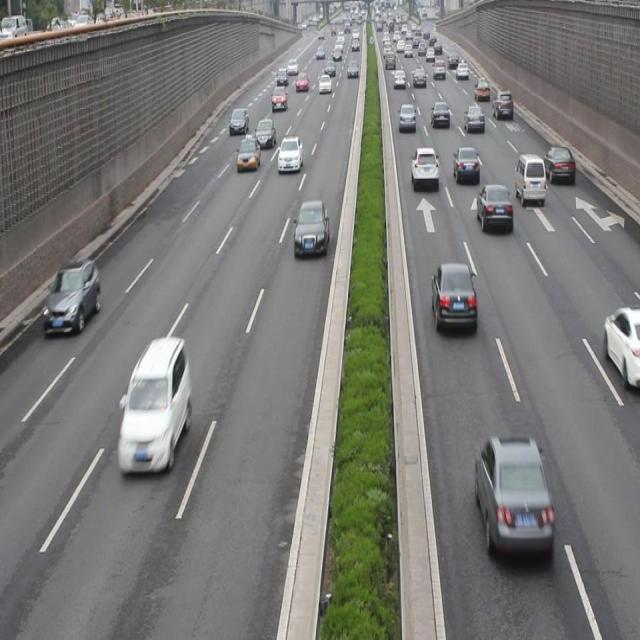car: (117, 337, 190, 474), (473, 434, 551, 559), (43, 258, 101, 336), (430, 261, 476, 334), (603, 307, 640, 388), (292, 199, 328, 258), (475, 182, 512, 233), (409, 144, 438, 190), (543, 144, 575, 184), (452, 145, 479, 186), (277, 135, 302, 174), (236, 135, 259, 170), (464, 103, 486, 132), (255, 116, 275, 147), (228, 106, 248, 135), (398, 100, 415, 132), (431, 100, 449, 130)
truck: (513, 152, 544, 205)
